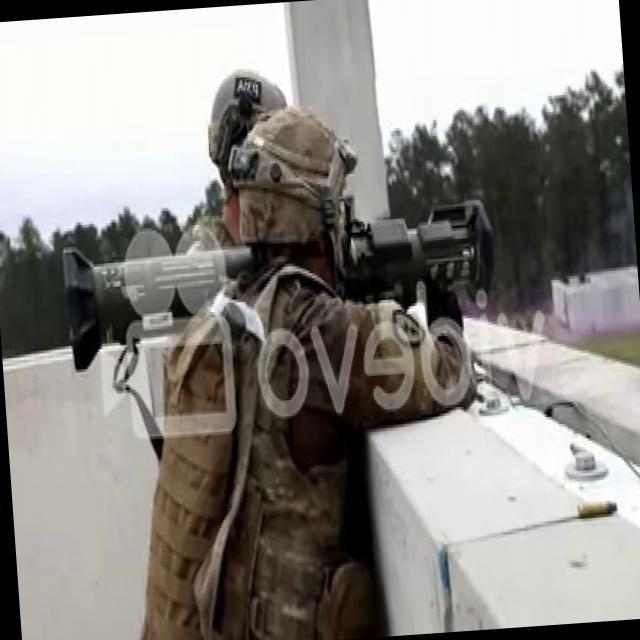rocket: (64, 204, 497, 369)
